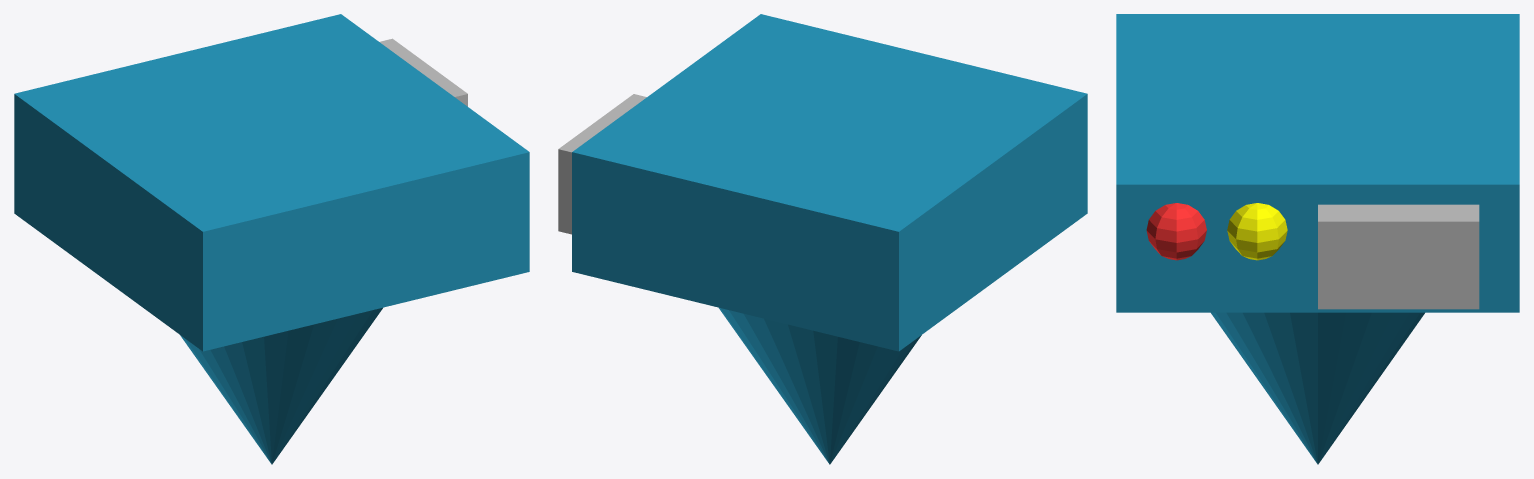
The model's file is teleporter.glb.gltf.
3 renders of one model, left to right at view 1: azimuth 30°, elevation 25°; view 2: azimuth 150°, elevation 25°; view 3: azimuth 270°, elevation 25°, orthographic. The views are drawn at different scales.
Visible parts, largest first — view 1: Top, Cone, Box; view 2: Top, Cone, Box; view 3: Top, Box, Cone, Red Dot, Yellow Dot.
Part boxes in pixels (x1,y1,x2,y2): Top: [14, 14, 529, 351]; Cone: [180, 307, 382, 464]; Box: [380, 38, 467, 106]; Top: [572, 14, 1087, 351]; Cone: [719, 307, 921, 464]; Box: [558, 94, 646, 234]; Top: [1116, 14, 1519, 312]; Box: [1318, 204, 1479, 309]; Cone: [1211, 312, 1424, 464]; Red Dot: [1146, 203, 1206, 260]; Yellow Dot: [1227, 203, 1287, 260].
Bounding box in the file's own units: 2.2 × 2 × 2.
